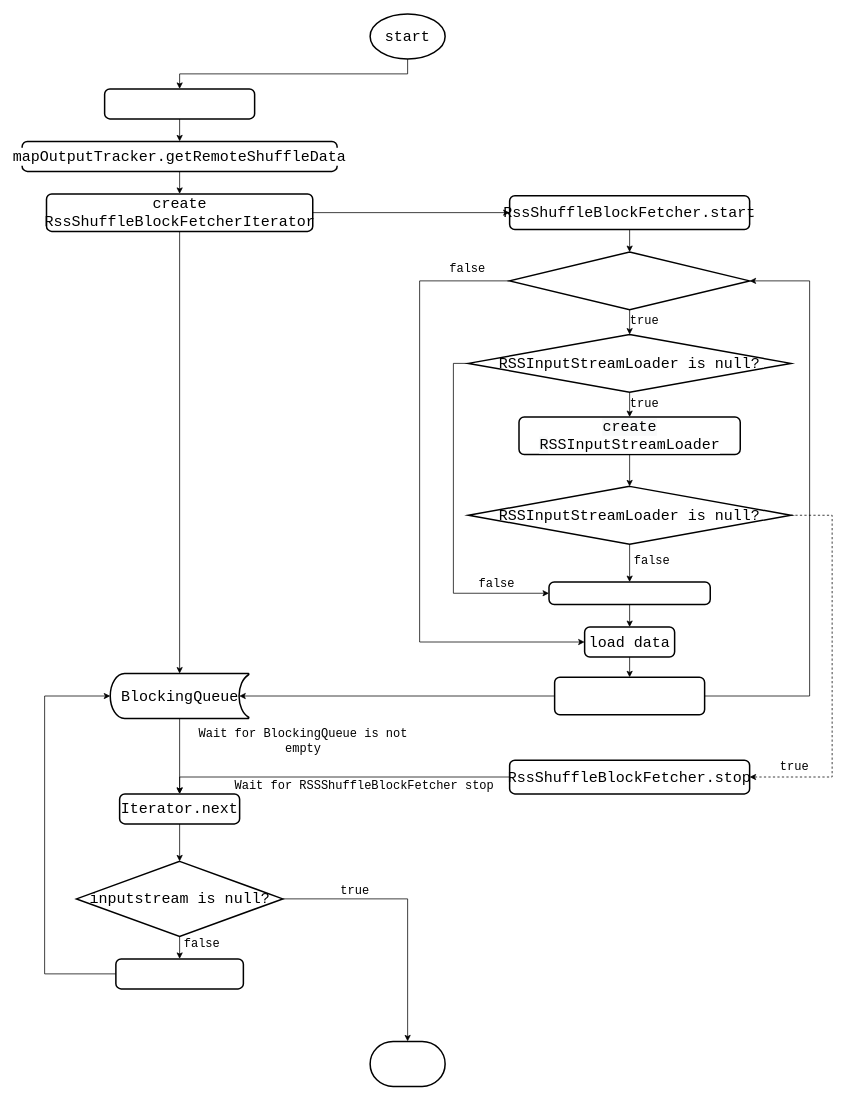
Image size: 851x1100. Some labels were removed from this diagram. Each missing label, with the centre of its shape:
end: point 407,1063
HdfsShuffleReader: point 179,103
load RSSInputStream: point 629,593
process data: point 179,973
put data into BlockingQueue: point 629,695
RSSInputStream is null?: point 629,280
